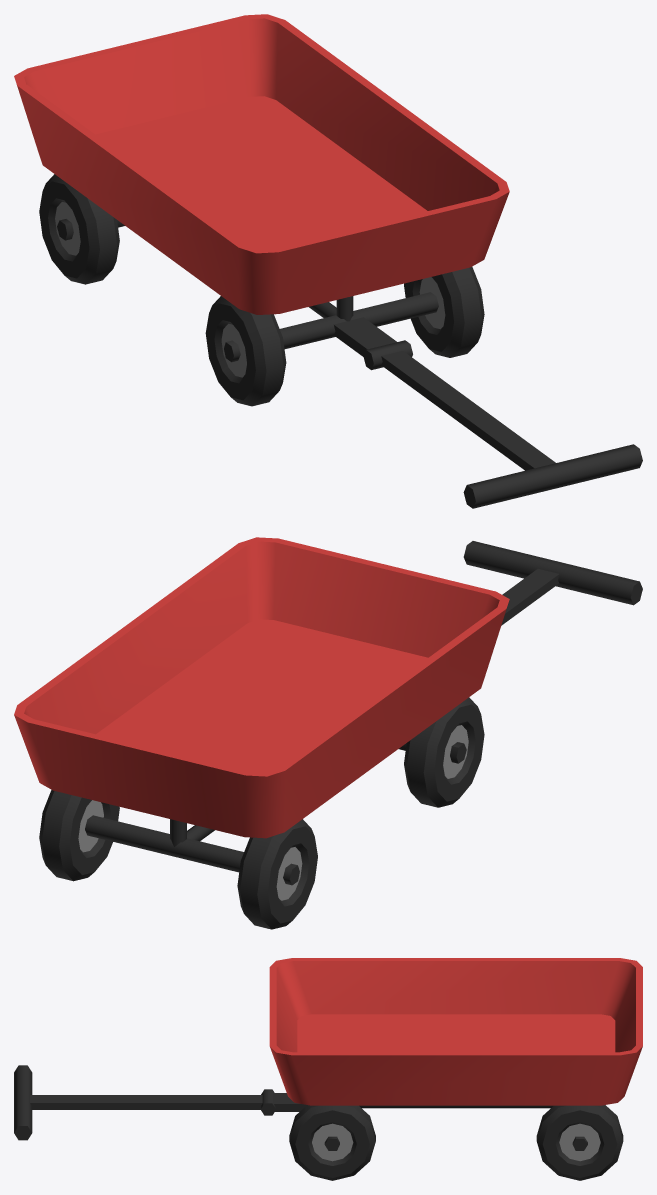
Rendered from Cart_01.fbx.
The picture shows the model from 3 angles, top to bottom: view 1: azimuth 30°, elevation 25°; view 2: azimuth 150°, elevation 25°; view 3: azimuth 270°, elevation 25°; orthographic projection. The views are drawn at different scales.
Parts seen in each view (by area): view 1: Cart_01, Cart_01_Handle, Cart_01_Wheel_FR, Cart_01_Wheel_BR, Cart_01_Wheel_FL; view 2: Cart_01, Cart_01_Wheel_BR, Cart_01_Wheel_FR, Cart_01_Handle, Cart_01_Wheel_BL; view 3: Cart_01, Cart_01_Wheel_FL, Cart_01_Wheel_BL, Cart_01_Handle.
Part boxes in pixels (left/top/right/bottom): Cart_01: left=14, top=14, right=509, bottom=370; Cart_01_Handle: left=381, top=351, right=642, bottom=508; Cart_01_Wheel_FR: left=205, top=296, right=286, bottom=406; Cart_01_Wheel_BR: left=39, top=174, right=119, bottom=284; Cart_01_Wheel_FL: left=404, top=267, right=484, bottom=357; Cart_01: left=14, top=537, right=509, bottom=885; Cart_01_Wheel_BR: left=237, top=819, right=317, bottom=929; Cart_01_Wheel_FR: left=404, top=697, right=484, bottom=807; Cart_01_Handle: left=463, top=541, right=642, bottom=625; Cart_01_Wheel_BL: left=39, top=790, right=119, bottom=881; Cart_01: left=260, top=958, right=642, bottom=1150; Cart_01_Wheel_FL: left=289, top=1105, right=375, bottom=1180; Cart_01_Wheel_BL: left=536, top=1105, right=623, bottom=1180; Cart_01_Handle: left=14, top=1065, right=262, bottom=1140.
Size of the model in its own units: 0.5129 by 0.3324 by 1.4.
